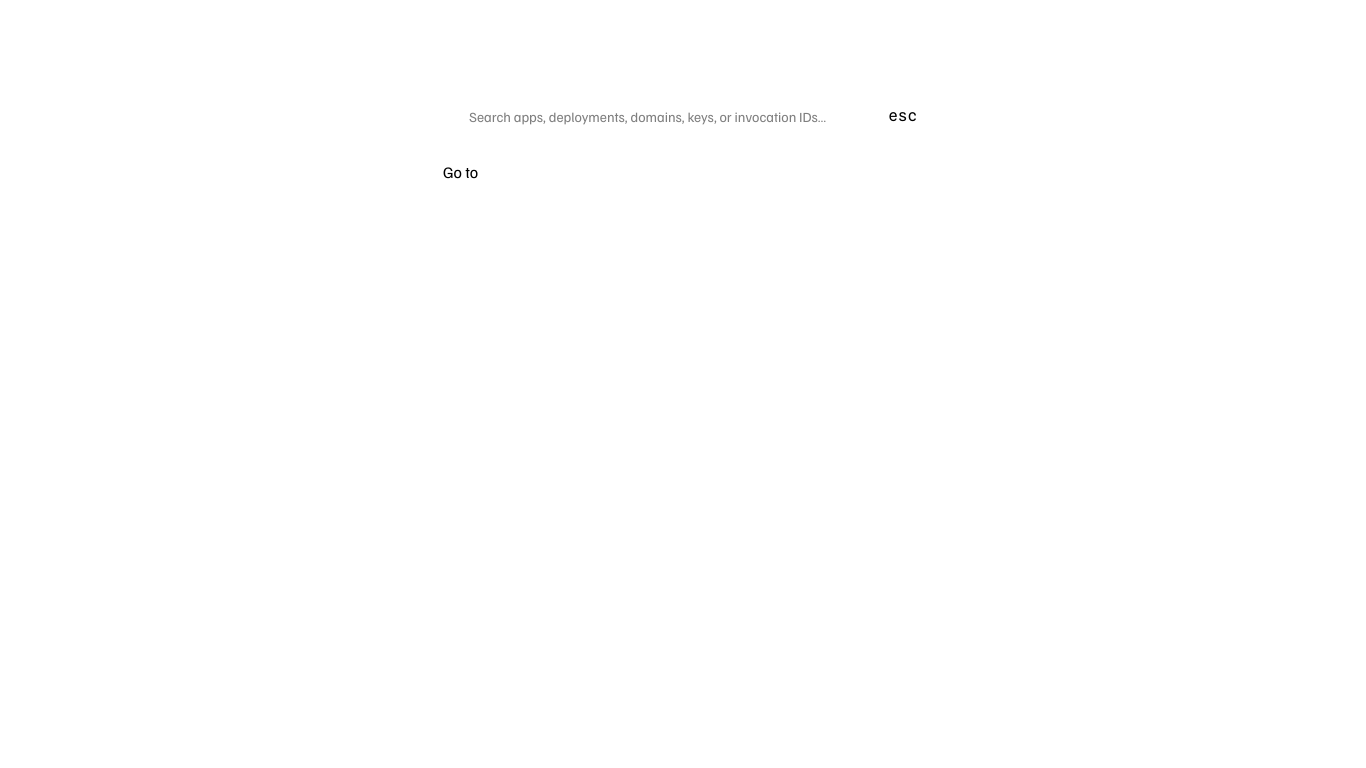
it: CommandPalette › counts HTTP requests in app hints when metrics are known
The width and height of the screenshot is (1366, 768).
Type "alpha" into the dropdown named "search commands" at (671, 116), box x1=469 y1=92 x2=872 y2=140
(page scrolled)
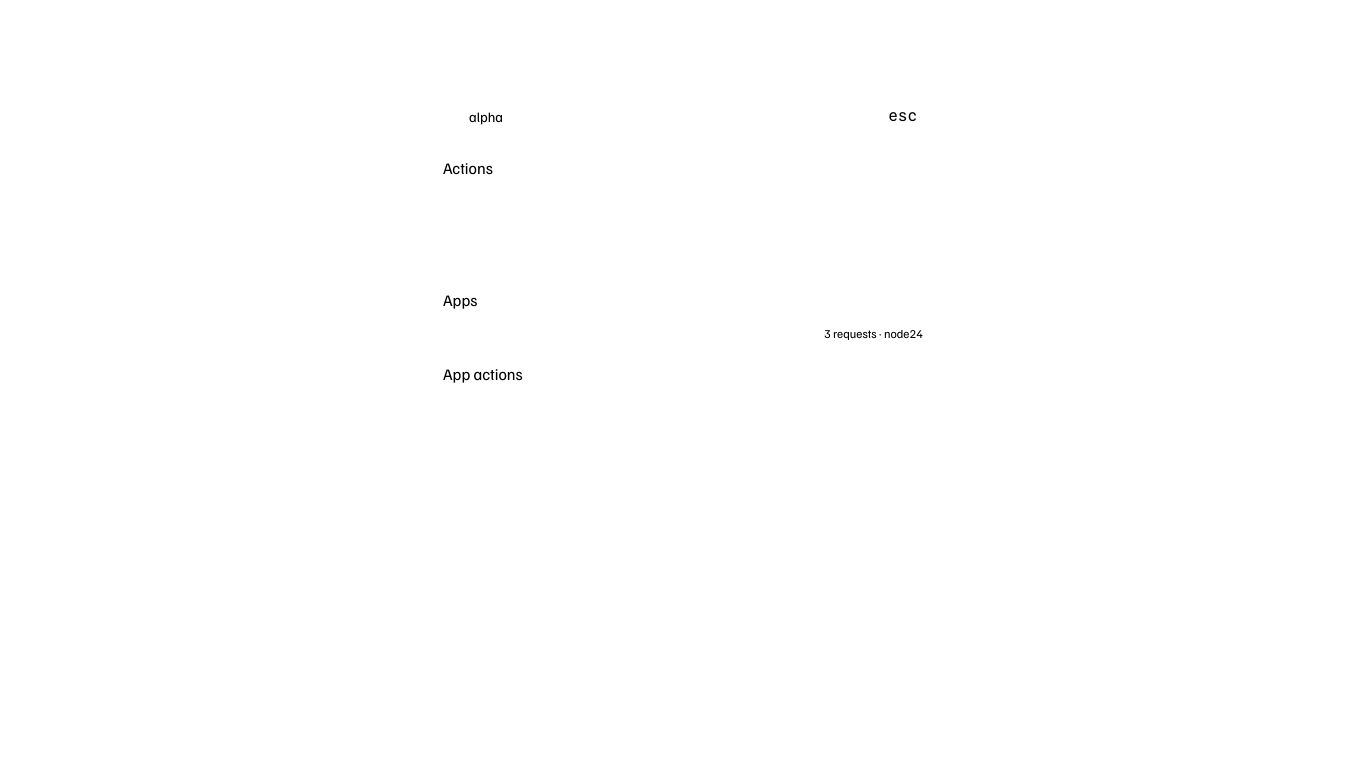
Check: the text "3 requests · node24" is shown, box x1=824 y1=326 x2=923 y2=342
